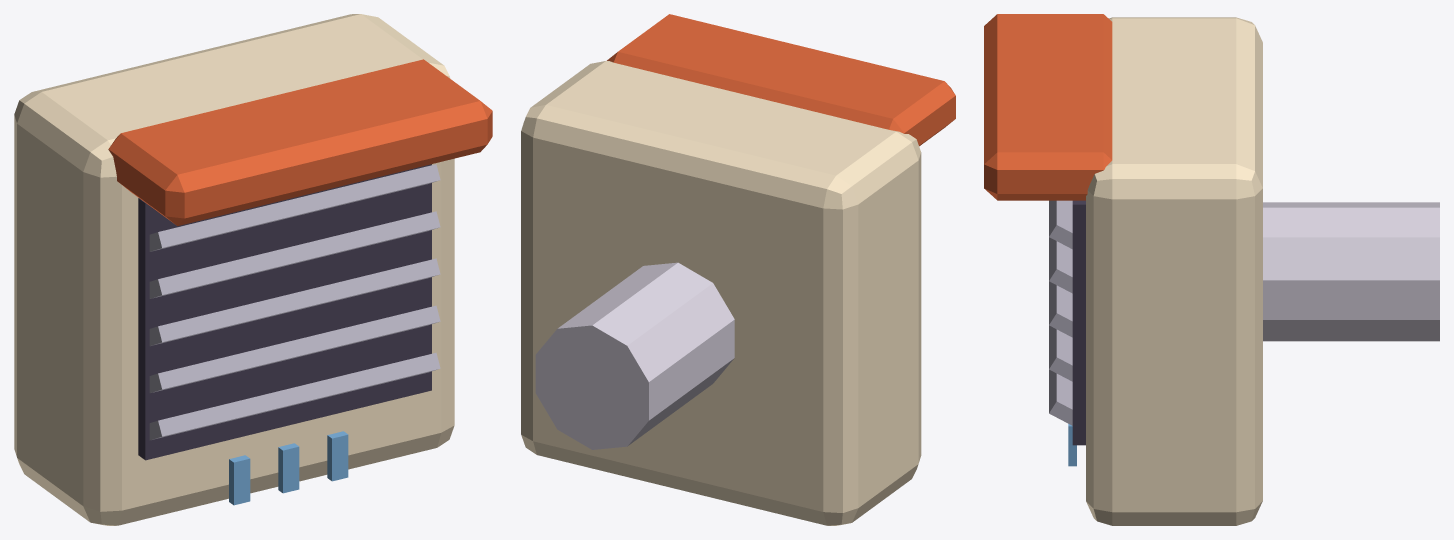
The model's file is MOONSHIFT_AIR_Vent_Inlet.glb.
3 renders of one model, left to right at view 1: azimuth 30°, elevation 25°; view 2: azimuth 150°, elevation 25°; view 3: azimuth 270°, elevation 25°, orthographic. The views are drawn at different scales.
Visible parts, largest first — view 1: Inlet_Wall, Inlet_GrilleBack, Inlet_Hood, Inlet_Louver0, Inlet_Louver2, Inlet_Louver1, Inlet_Louver4, Inlet_Louver3, Inlet_Arrow2, Inlet_Arrow1, Inlet_Arrow0; view 2: Inlet_Wall, Inlet_Duct, Inlet_Hood; view 3: Inlet_Wall, Inlet_Duct, Inlet_Hood, Inlet_GrilleBack, Inlet_Louver1, Inlet_Louver0, Inlet_Louver3, Inlet_Louver2, Inlet_Louver4.
Boxes of the visible parts, x1,y1,x2,y2 form: Inlet_Wall: (14,14,454,525); Inlet_GrilleBack: (138,164,431,460); Inlet_Hood: (108,59,492,225); Inlet_Louver0: (149,352,440,440); Inlet_Louver2: (149,258,440,345); Inlet_Louver1: (149,305,440,393); Inlet_Louver4: (149,164,440,251); Inlet_Louver3: (149,211,440,298); Inlet_Arrow2: (327,431,348,481); Inlet_Arrow1: (278,443,299,493); Inlet_Arrow0: (229,455,250,505); Inlet_Wall: (521,61,921,525); Inlet_Duct: (535,262,734,449); Inlet_Hood: (607,14,955,146); Inlet_Wall: (1086,17,1262,525); Inlet_Duct: (1263,202,1439,341); Inlet_Hood: (984,14,1112,200); Inlet_GrilleBack: (1072,200,1085,445); Inlet_Louver1: (1049,325,1072,381); Inlet_Louver0: (1049,369,1072,425); Inlet_Louver3: (1049,237,1072,293); Inlet_Louver2: (1049,281,1072,337); Inlet_Louver4: (1049,200,1072,249).
Bounding box in the file's own units: 0.9 × 0.92 × 1.03.
